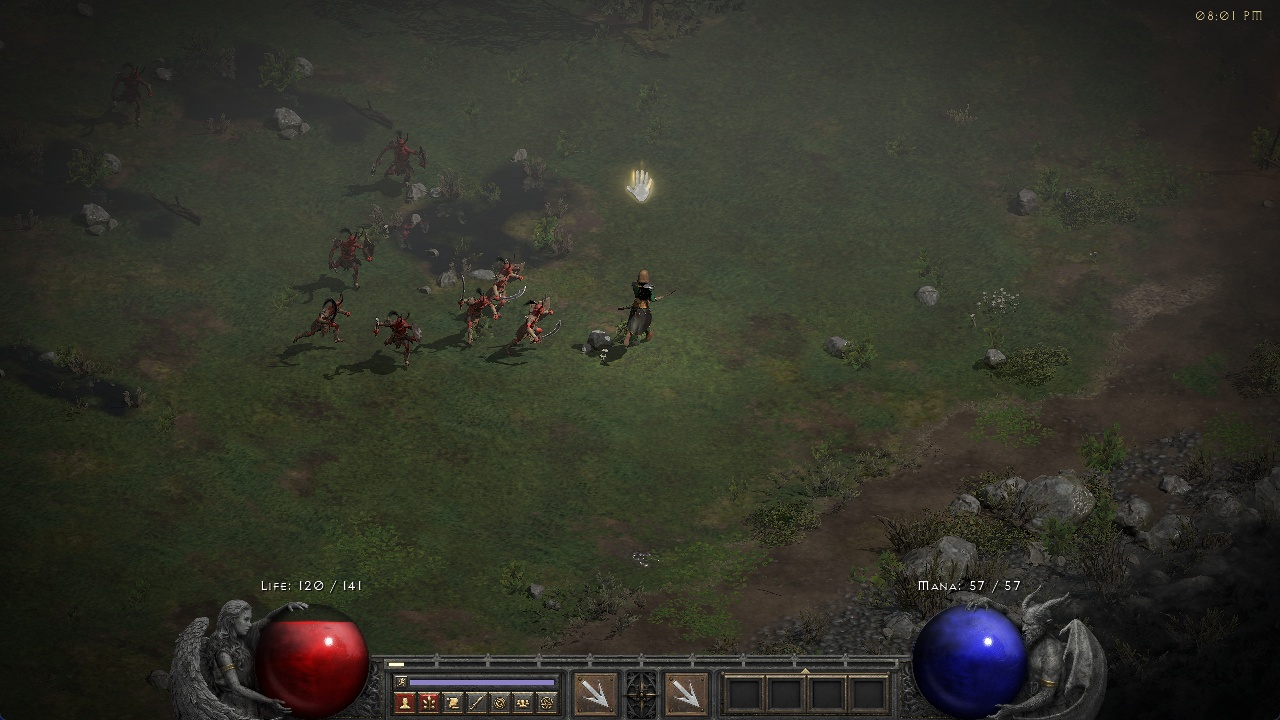fallen: (366, 131, 433, 194), (105, 62, 159, 126), (326, 229, 379, 289), (371, 312, 426, 366), (518, 298, 566, 348), (301, 297, 348, 348), (459, 287, 501, 342), (491, 259, 527, 302)
